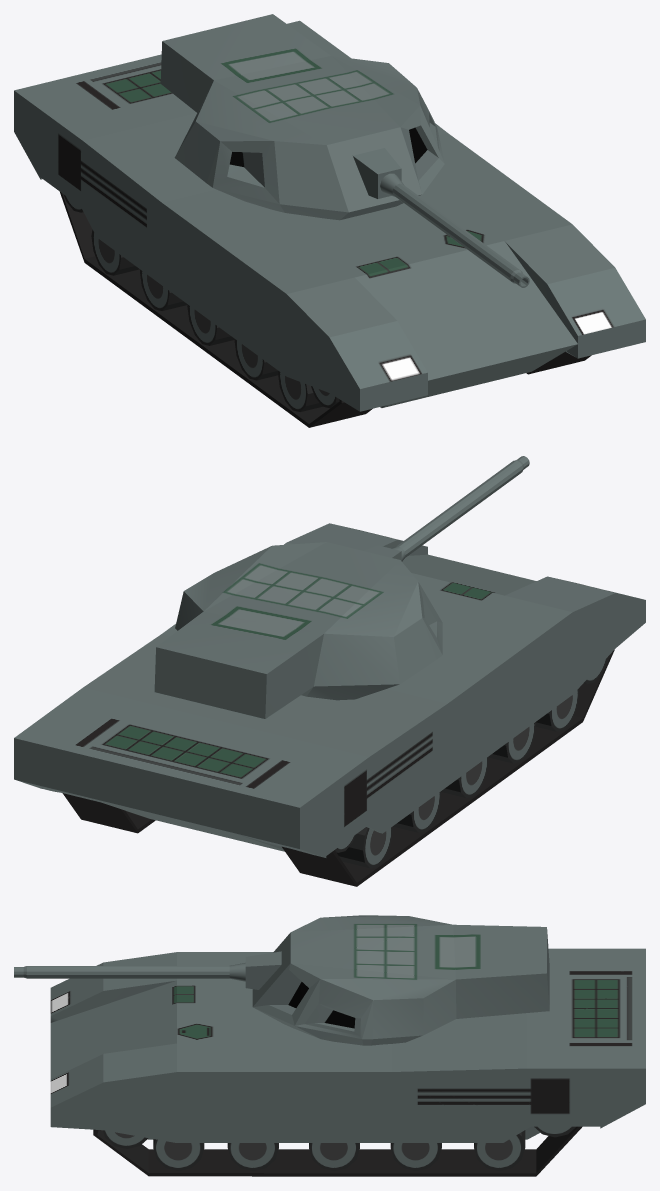
The model's file is Tank_04.fbx.
The picture shows the model from 3 angles, top to bottom: view 1: azimuth 30°, elevation 25°; view 2: azimuth 150°, elevation 25°; view 3: azimuth 270°, elevation 25°; orthographic projection. The views are drawn at different scales.
Parts seen in each view (by area): view 1: Tank_04_Body, Upper_Body, Tank_04_Chain01, Main_Gun_With_Body, Tank_04_Wheel14, Tank_04_Wheel04, Tank_04_Wheel06, Tank_04_Wheel08, Tank_04_Wheel10; view 2: Tank_04_Body, Upper_Body, Tank_04_Chain01, Main_Gun_With_Body, Tank_04_Chain02, Tank_04_Wheel04, Tank_04_Wheel06, Tank_04_Wheel10, Tank_04_Wheel08, Tank_04_Wheel14; view 3: Tank_04_Body, Upper_Body, Tank_04_Chain02, Main_Gun_With_Body, Tank_04_Wheel03, Tank_04_Wheel11, Tank_04_Wheel05, Tank_04_Wheel09, Tank_04_Wheel07, Tank_04_Wheel12.
Boxes of the visible parts, <box> form: Tank_04_Body: <box>14,20,645,411</box>; Upper_Body: <box>160,14,444,220</box>; Tank_04_Chain01: <box>60,192,372,427</box>; Main_Gun_With_Body: <box>353,148,529,287</box>; Tank_04_Wheel14: <box>278,370,322,411</box>; Tank_04_Wheel04: <box>91,229,139,275</box>; Tank_04_Wheel06: <box>140,269,187,310</box>; Tank_04_Wheel08: <box>187,304,234,345</box>; Tank_04_Wheel10: <box>234,339,277,380</box>; Tank_04_Body: <box>14,523,645,857</box>; Upper_Body: <box>154,542,442,718</box>; Tank_04_Chain01: <box>282,650,614,886</box>; Main_Gun_With_Body: <box>364,456,529,561</box>; Tank_04_Chain02: <box>62,793,155,833</box>; Tank_04_Wheel04: <box>337,827,392,868</box>; Tank_04_Wheel06: <box>393,791,441,832</box>; Tank_04_Wheel10: <box>488,722,535,763</box>; Tank_04_Wheel08: <box>441,756,488,798</box>; Tank_04_Wheel14: <box>535,689,579,731</box>; Tank_04_Body: <box>50,948,645,1142</box>; Upper_Body: <box>252,915,549,1045</box>; Tank_04_Chain02: <box>93,1126,582,1176</box>; Main_Gun_With_Body: <box>14,951,281,989</box>; Tank_04_Wheel03: <box>474,1130,525,1171</box>; Tank_04_Wheel11: <box>153,1139,204,1171</box>; Tank_04_Wheel05: <box>390,1143,441,1171</box>; Tank_04_Wheel09: <box>227,1143,278,1171</box>; Tank_04_Wheel07: <box>309,1143,359,1171</box>; Tank_04_Wheel12: <box>103,1130,148,1148</box>.
Bounding box in the file's own units: 31.15 × 20.62 × 69.34.
